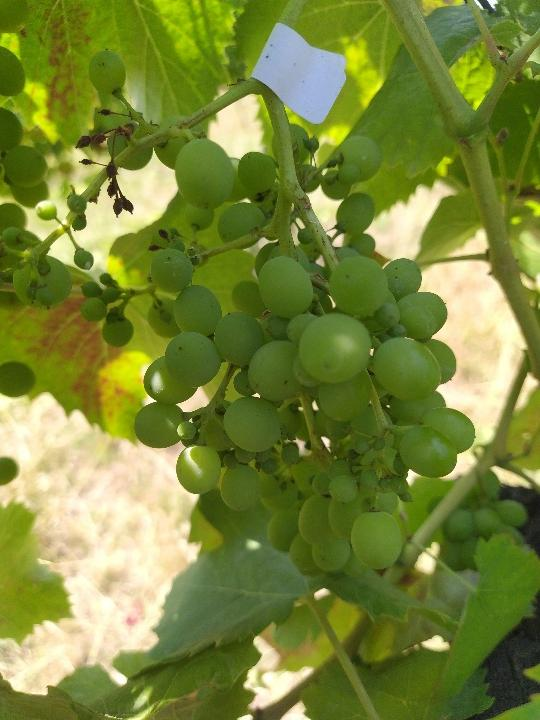grape: (2, 46, 478, 577)
